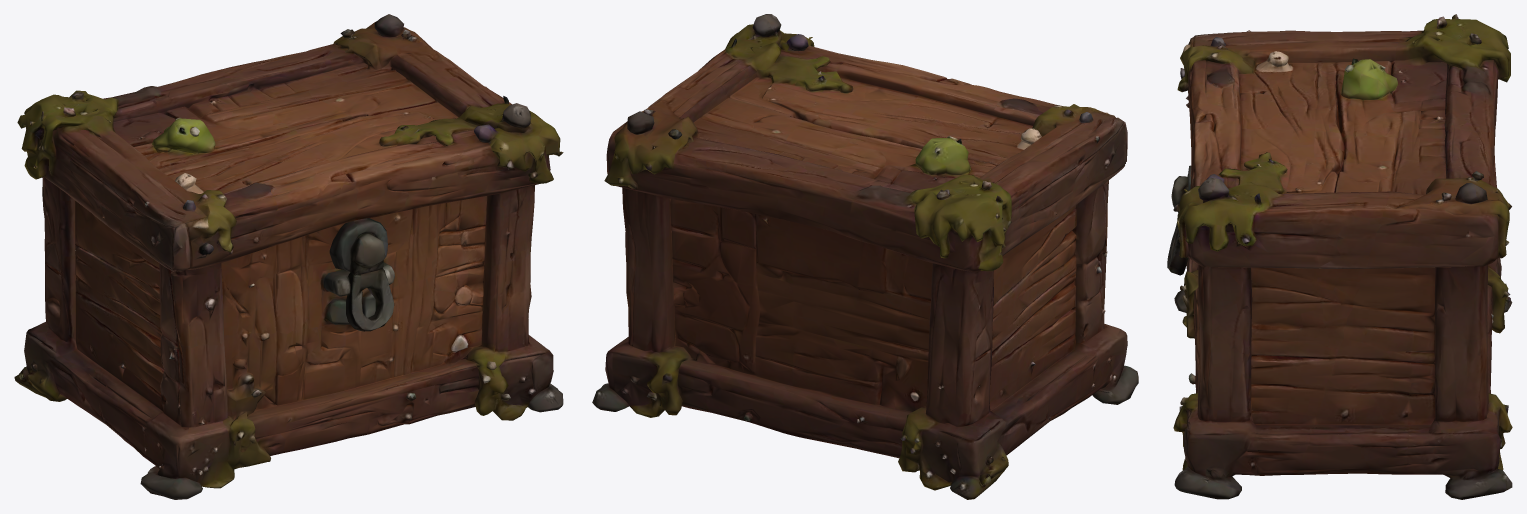
The model's file is cofre-exploracion.glb.
3 views of the same model, side by side, from view 1: azimuth 30°, elevation 25°; view 2: azimuth 150°, elevation 25°; view 3: azimuth 270°, elevation 25° (orthographic).
Size of the model in its own units: 0.9771 by 0.6847 by 0.7055.
1 material, 1 textured.
